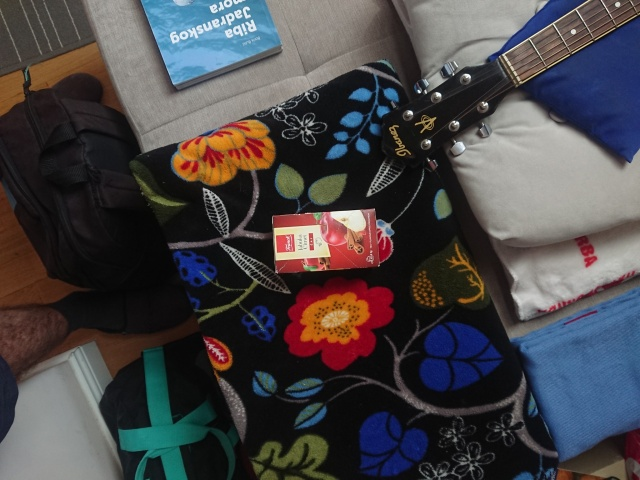Franck Apple Cinnamon Tea 60g: (269, 206, 381, 273)
